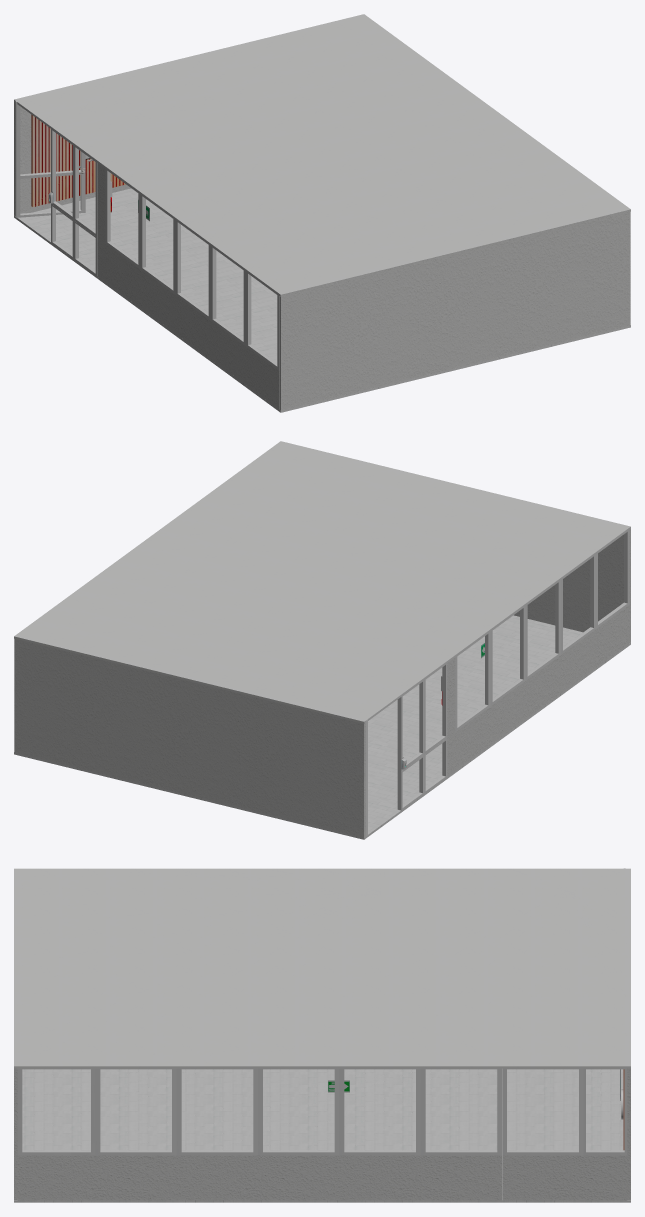
Rendered from Cuartov2.obj.
3 renders of one model, top to bottom at view 1: azimuth 30°, elevation 25°; view 2: azimuth 150°, elevation 25°; view 3: azimuth 270°, elevation 25°, orthographic. The views are drawn at different scales.
Visible parts, largest first — view 1: Techo, Objetos_separados, suelo; view 2: Techo, Objetos_separados, suelo; view 3: Techo, suelo, Objetos_separados.
Boxes of the visible parts, <box> form: Techo: <box>14,14,630,410</box>; Objetos_separados: <box>14,101,279,409</box>; suelo: <box>14,188,630,412</box>; Techo: <box>14,441,630,723</box>; Objetos_separados: <box>14,530,629,837</box>; suelo: <box>14,615,630,839</box>; Techo: <box>14,868,630,1199</box>; suelo: <box>14,1069,630,1202</box>; Objetos_separados: <box>17,868,630,1200</box>.
Size of the model in its own units: 111 by 35.4 by 145.
